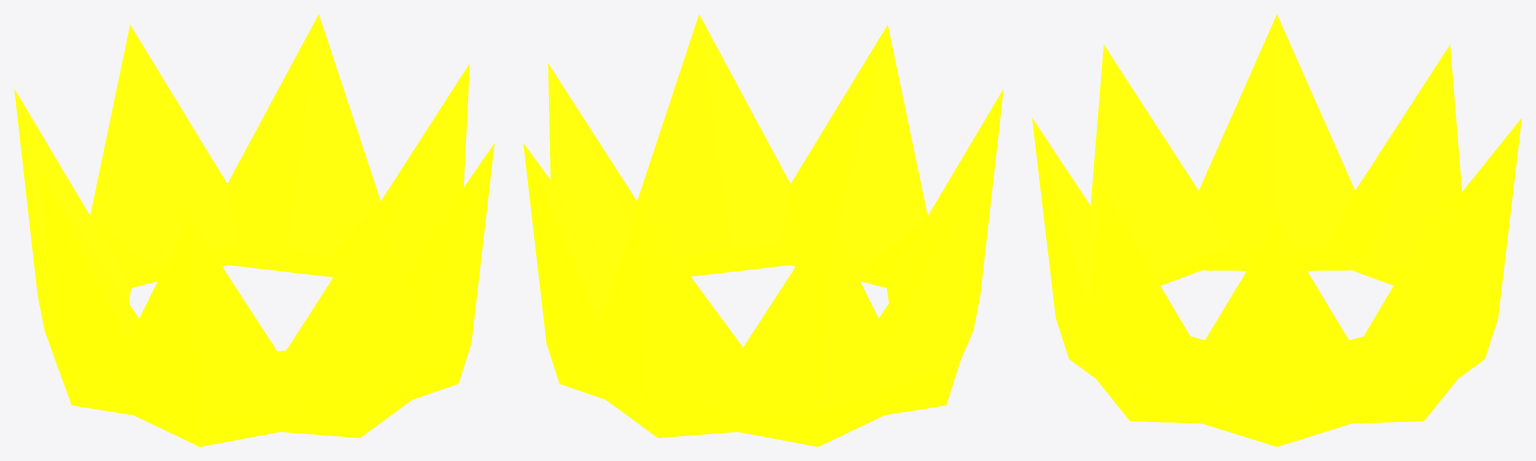
Rendered from Crown.glb.
3 views of the same model, side by side, from view 1: azimuth 30°, elevation 25°; view 2: azimuth 150°, elevation 25°; view 3: azimuth 270°, elevation 25° (orthographic).
Parts seen in each view (by area): view 1: Crown; view 2: Crown; view 3: Crown.
Part boxes in pixels (x1,y1,x2,y2): Crown: (14,14,494,446); Crown: (523,14,1003,446); Crown: (1032,14,1521,446).
Size of the model in its own units: 2.21 by 1.2 by 2.21.
